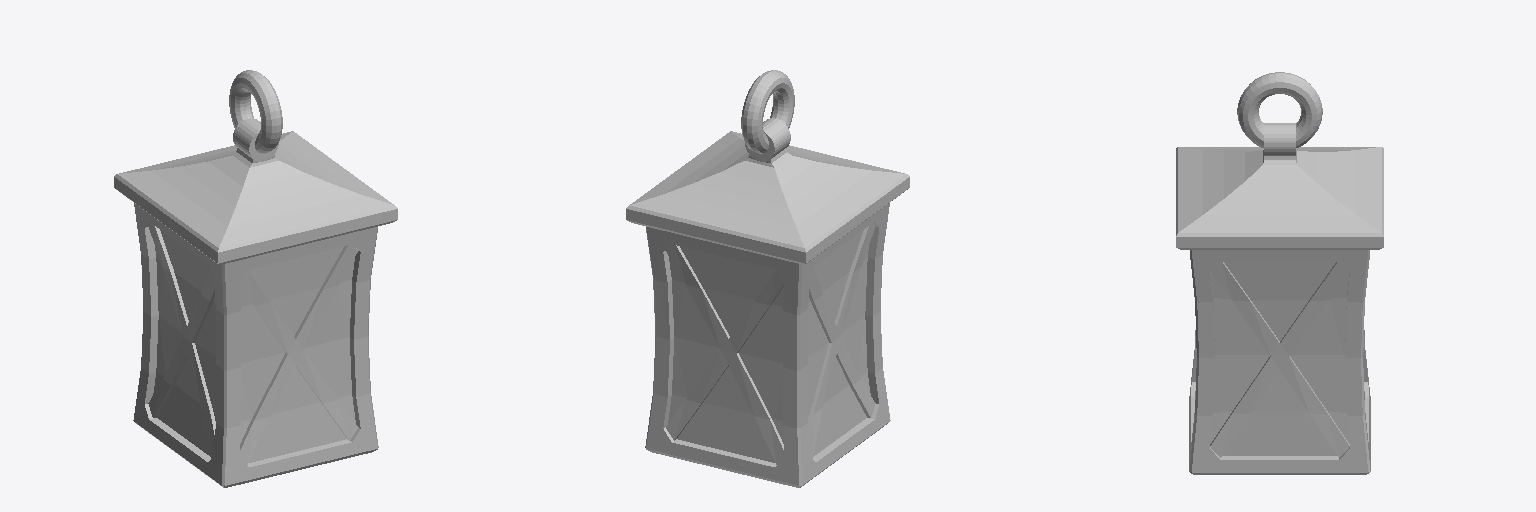
Rendered from lantern.obj.
3 views of the same model, side by side, from view 1: azimuth 30°, elevation 25°; view 2: azimuth 150°, elevation 25°; view 3: azimuth 270°, elevation 25° (orthographic).
Parts seen in each view (by area): view 1: Lamp_low_Куб, Ring_low_Куб.001; view 2: Lamp_low_Куб, Ring_low_Куб.001; view 3: Lamp_low_Куб, Ring_low_Куб.001.
Boxes of the visible parts, box(x1,y1,x2,y2) form: Lamp_low_Куб: box(114, 118, 397, 487); Ring_low_Куб.001: box(229, 70, 282, 153); Lamp_low_Куб: box(626, 118, 909, 487); Ring_low_Куб.001: box(741, 70, 794, 153); Lamp_low_Куб: box(1176, 123, 1383, 474); Ring_low_Куб.001: box(1237, 72, 1322, 147).
Bounding box in the file's own units: 2.28 × 4.43 × 2.28.